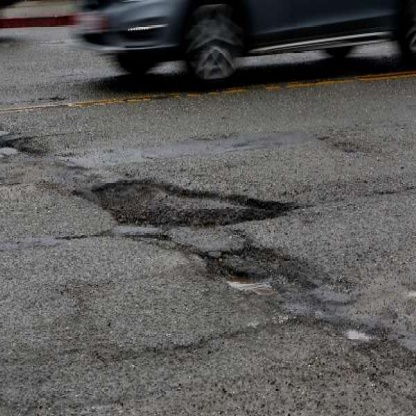pothole: (61, 168, 317, 249)
